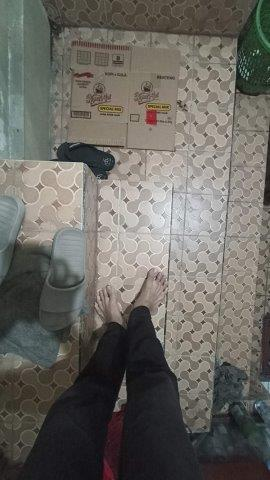kardus: (68, 42, 180, 150)
